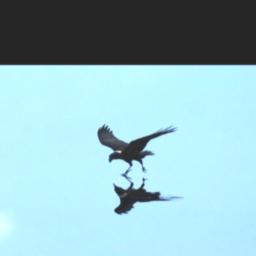Crow: (95, 124, 180, 178)
